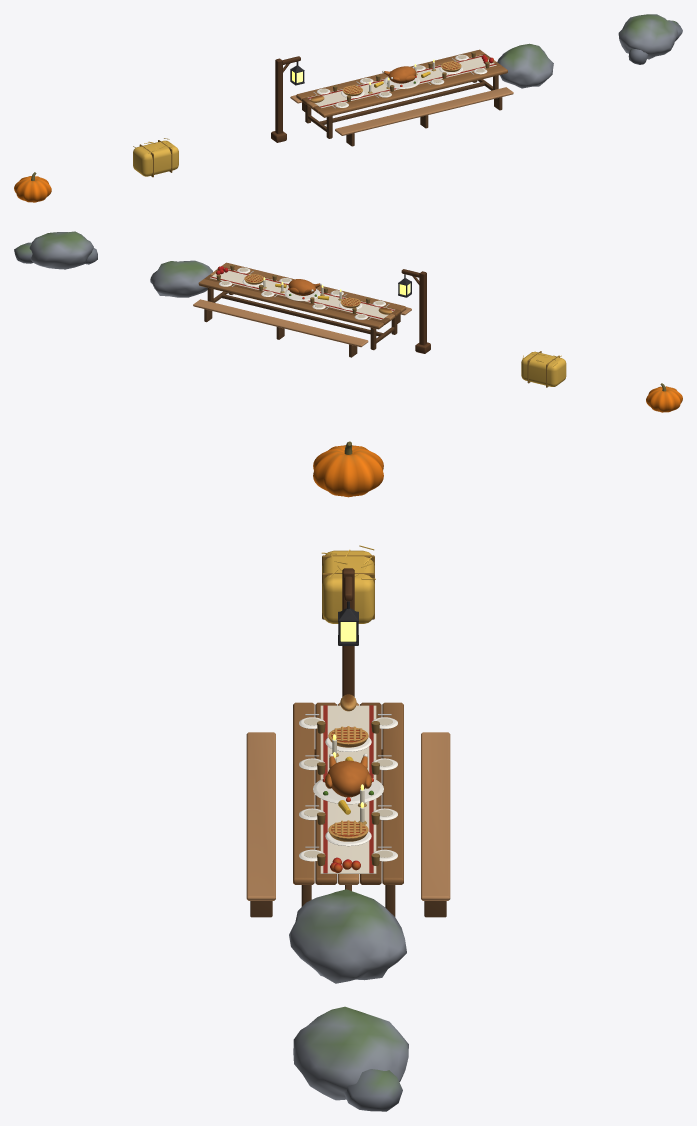
File: props.glb
The picture shows the model from 3 angles, top to bottom: view 1: azimuth 30°, elevation 25°; view 2: azimuth 150°, elevation 25°; view 3: azimuth 270°, elevation 25°; orthographic projection. The views are drawn at different scales.
Parts seen in each view (by area): view 1: feast_table, rock_b, rock_a, haybale, lantern_post, pumpkin; view 2: feast_table, rock_b, rock_a, haybale, lantern_post, pumpkin; view 3: feast_table, rock_b, rock_a, haybale, pumpkin, lantern_post.
Part boxes in pixels (x1,y1,x2,y2): feast_table: (290,49,513,146); rock_b: (618,14,682,64); rock_a: (497,43,553,88); haybale: (133,138,178,177); lantern_post: (271,56,304,142); pumpkin: (14,172,51,202); feast_table: (193,262,411,357); rock_b: (14,231,97,269); rock_a: (150,260,212,297); haybale: (521,351,566,387); lantern_post: (398,269,430,353); pumpkin: (646,383,682,412); feast_table: (246,694,450,917); rock_b: (293,1006,408,1111); rock_a: (289,889,406,983); haybale: (321,545,375,623); pumpkin: (313,441,383,497); lantern_post: (338,568,358,696).
Size of the model in its own units: 21.79 by 2.63 by 2.92.
